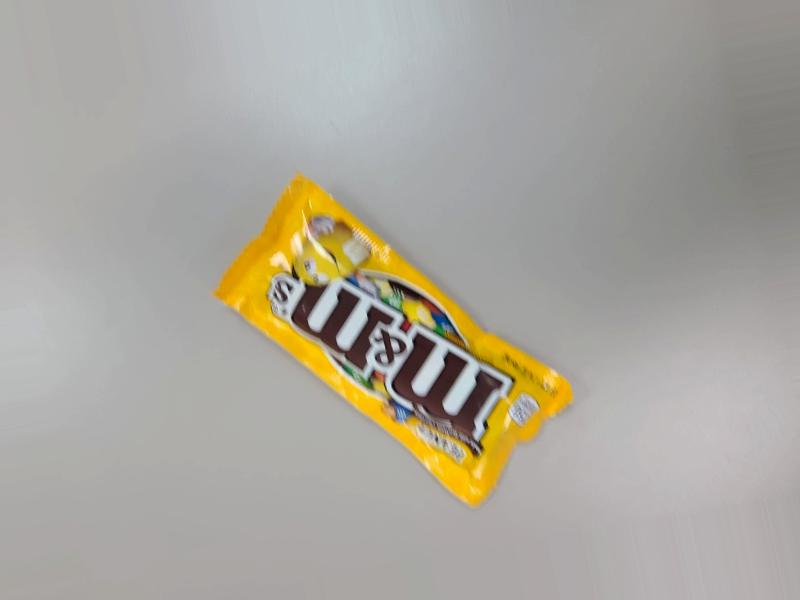m&m: (211, 169, 572, 512)
